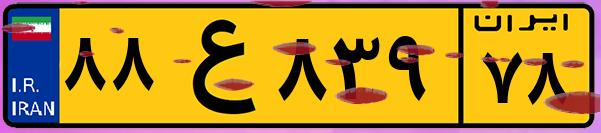3: (330, 28, 385, 110)
7: (475, 38, 525, 113)
8: (270, 28, 330, 110), (57, 26, 110, 100), (525, 38, 570, 115), (110, 28, 158, 98)
9: (385, 28, 445, 110)
ع: (158, 12, 270, 120)
